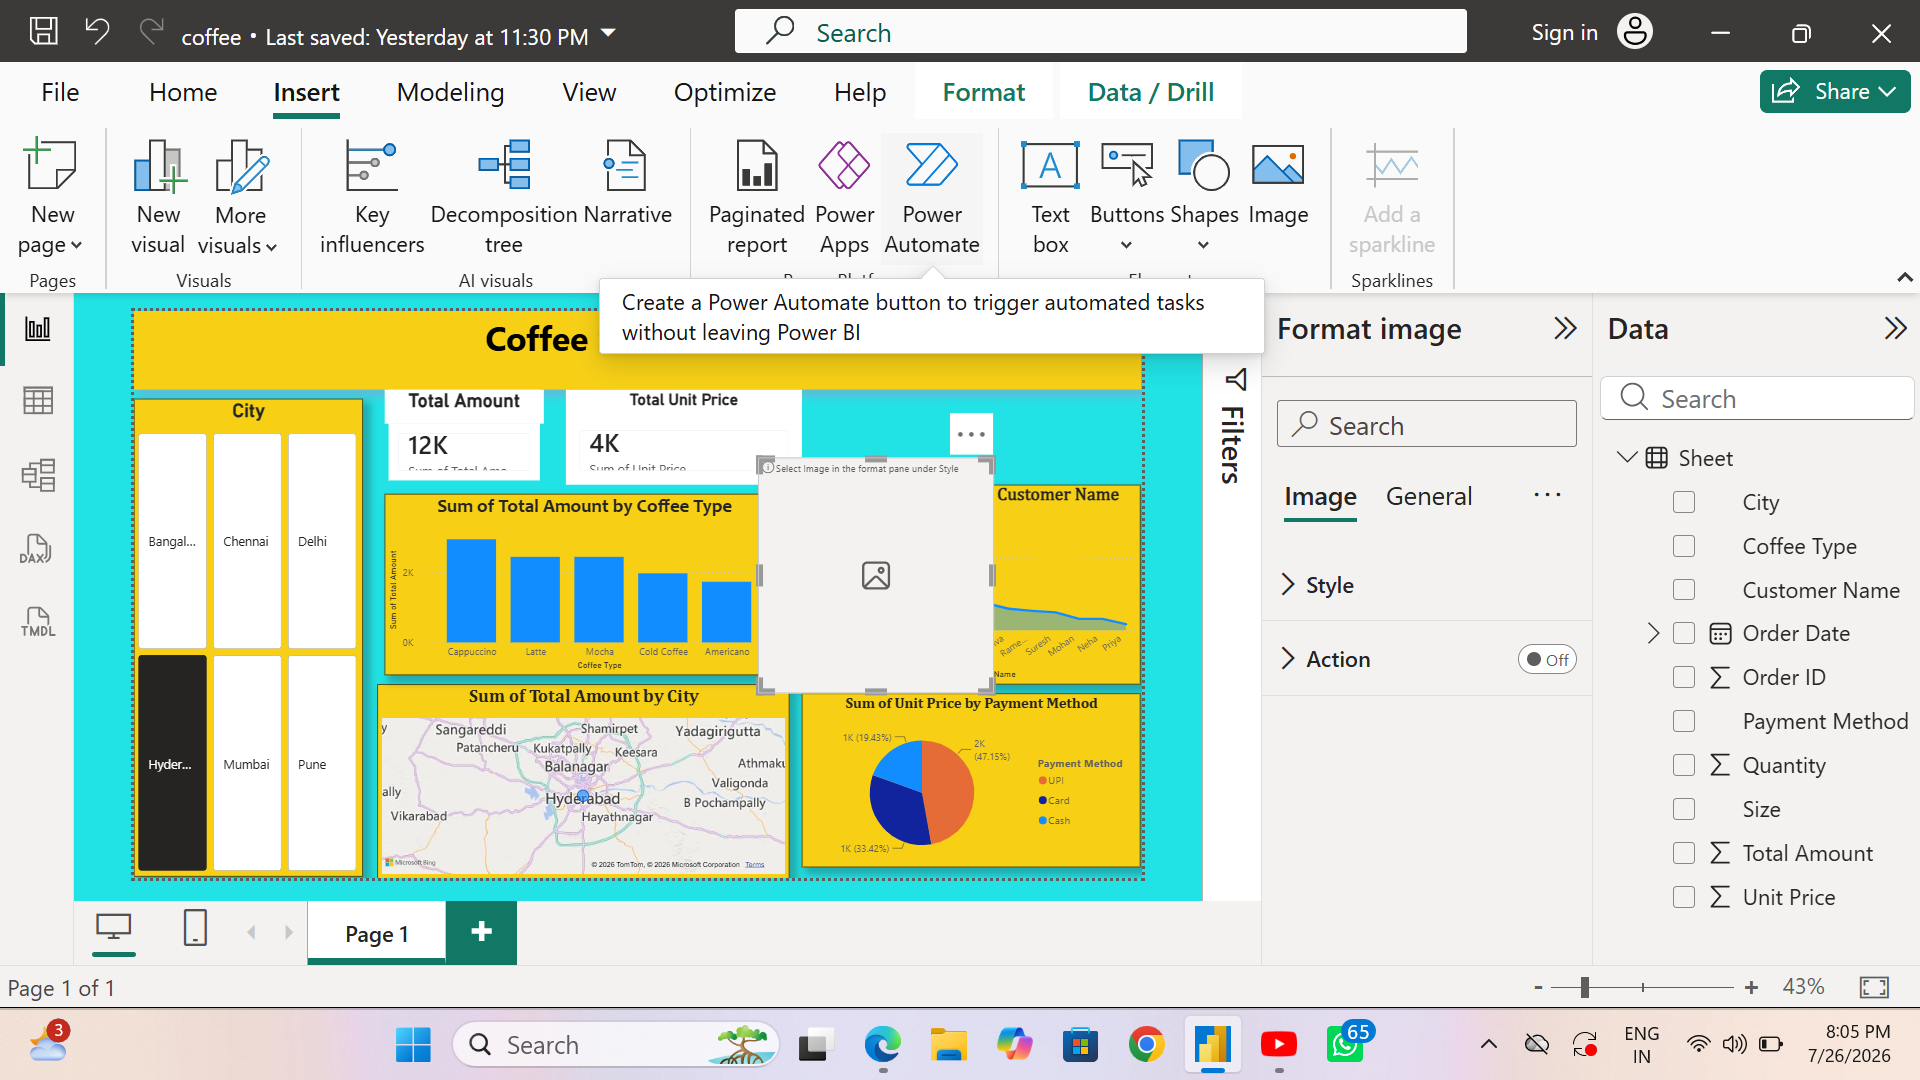

Layout of this report page (visuals, bound fields, positions):
{"tool":"powerbi","page":{"name":"Page 1","canvas":[1280,720],"ordinal":0},"visuals":[{"type":"textbox","box":[0,0,1279.8,99.7],"z":0},{"type":"textbox","box":[0,0,1279.8,99.7],"z":1000},{"type":"areaChart","fields":{"Category":["Sheet.Customer Name"],"Y":["Sum(Sheet.Total Amount)"]},"box":[832.6,232.6,446.5,241.9],"z":2000},{"type":"map","fields":{"Category":["Sheet.City"],"Size":["Sum(Sheet.Total Amount)"]},"box":[309.3,474.4,523.5,247.2],"z":3000},{"type":"pieChart","fields":{"Category":["Sheet.Payment Method"],"Y":["Sum(Sheet.Unit Price)"]},"box":[848.8,486,430.2,220.9],"z":4000},{"type":"advancedSlicerVisual","fields":{"Values":["Sheet.City"]},"box":[0,111.6,290.7,607],"z":5000},{"type":"columnChart","fields":{"Y":["Sum(Sheet.Total Amount)"],"Category":["Sheet.Coffee Type"]},"box":[318.6,232.6,507,230.2],"z":6000},{"type":"cardVisual","title":"Total Unit Price","fields":{"Data":["Sum(Sheet.Unit Price)"]},"box":[546.5,111.6,197.7,120.9],"z":7000},{"type":"image","box":[290.7,0,130.2,100],"z":8000},{"type":"cardVisual","title":"Total Quantity","fields":{"Data":["Sum(Sheet.Quantity)"]},"box":[1004.7,111.6,232.6,120.9],"z":9000},{"type":"cardVisual","title":"Order ID","fields":{"Data":["CountNonNull(Sheet.Order ID)"]},"box":[760.5,111.6,225.6,120.9],"z":10000},{"type":"cardVisual","title":"Total Amount","fields":{"Data":["Sum(Sheet.Total Amount)"]},"box":[307,111.6,225.6,120.9],"z":11000}]}

Visuals, with their boxes on the page's 1280x720 design canvas (x1, y1, x2, y2). These are canvas units, not pixel positions in the 1920x1080 screenshot, which may show the page scaled, cropped or inside an application window:
textbox: BBox(0, 0, 1280, 100)
textbox: BBox(0, 0, 1280, 100)
areaChart - Sheet.Customer Name x Sum(Sheet.Total Amount): BBox(833, 233, 1279, 474)
map - Sheet.City x Sum(Sheet.Total Amount): BBox(309, 474, 833, 722)
pieChart - Sheet.Payment Method x Sum(Sheet.Unit Price): BBox(849, 486, 1279, 707)
advancedSlicerVisual - Sheet.City: BBox(0, 112, 291, 719)
columnChart - Sum(Sheet.Total Amount) x Sheet.Coffee Type: BBox(319, 233, 826, 463)
"Total Unit Price" cardVisual: BBox(546, 112, 744, 232)
image: BBox(291, 0, 421, 100)
"Total Quantity" cardVisual: BBox(1005, 112, 1237, 232)
"Order ID" cardVisual: BBox(760, 112, 986, 232)
"Total Amount" cardVisual: BBox(307, 112, 533, 232)
